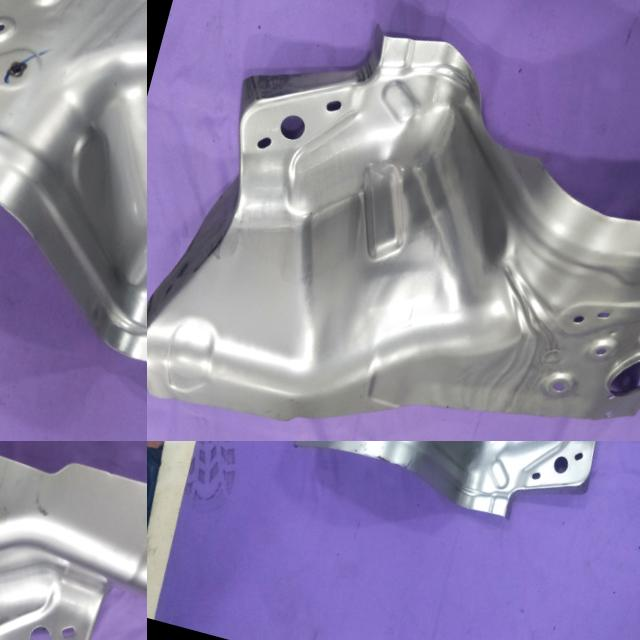Defect: (446, 78, 556, 175), (402, 446, 422, 476)
Healthy: (0, 0, 147, 441), (0, 441, 147, 640)
rust: (345, 442, 405, 472)
